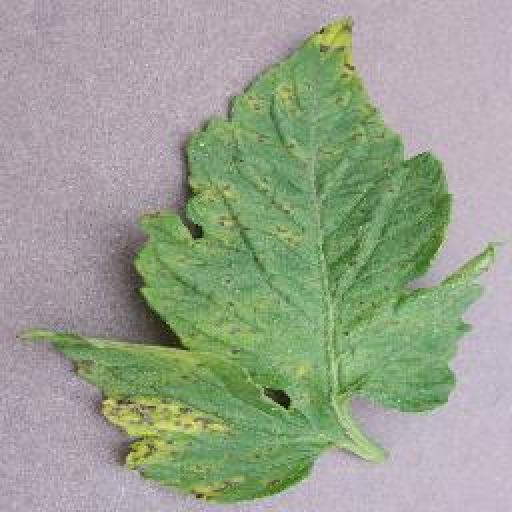Septoria: (19, 15, 502, 504)
